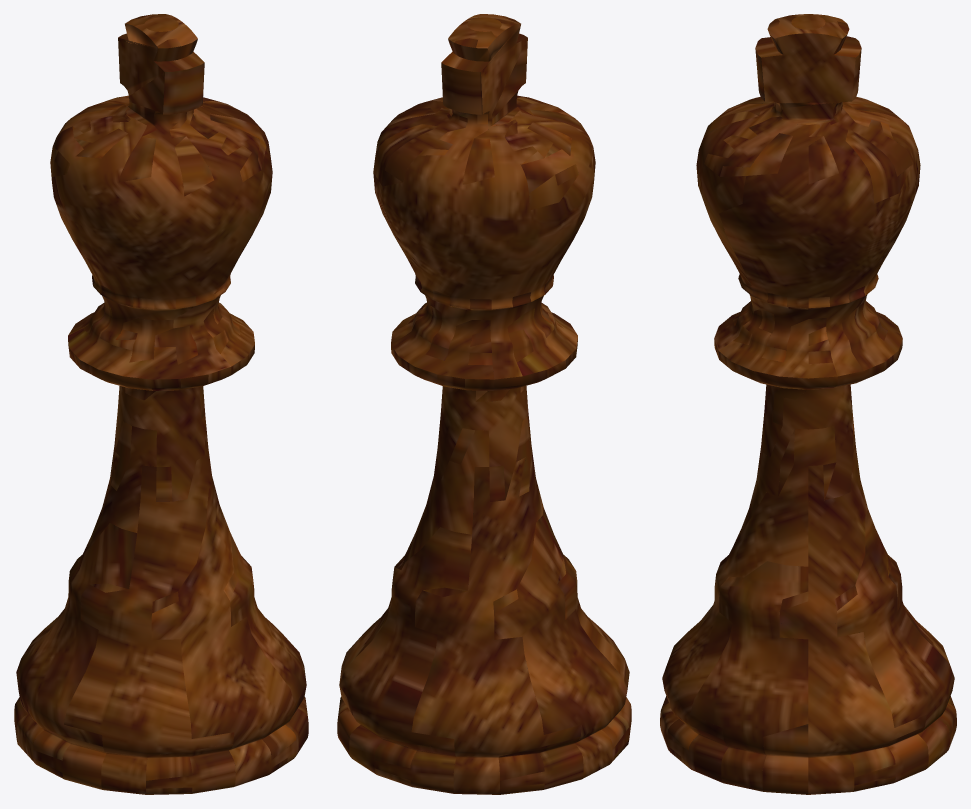
The model's file is king_b.obj.
The picture shows the model from 3 angles, left to right: view 1: azimuth 30°, elevation 25°; view 2: azimuth 150°, elevation 25°; view 3: azimuth 270°, elevation 25°; orthographic projection.
Visible parts, largest first — view 1: king_b; view 2: king_b; view 3: king_b.
Boxes of the visible parts, x1=… form: king_b: x1=14, y1=14, x2=308, y2=794; king_b: x1=337, y1=14, x2=631, y2=794; king_b: x1=660, y1=14, x2=956, y2=794.
Bounding box in the file's own units: 3.72 × 9.89 × 3.72.
